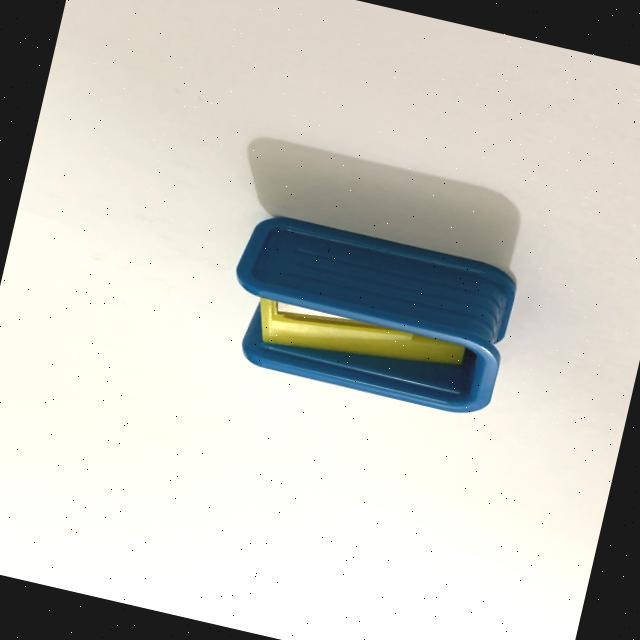Sharpner: (185, 178, 570, 466)
